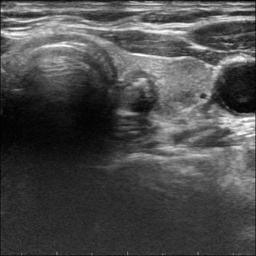mass: (117, 72, 157, 112)
